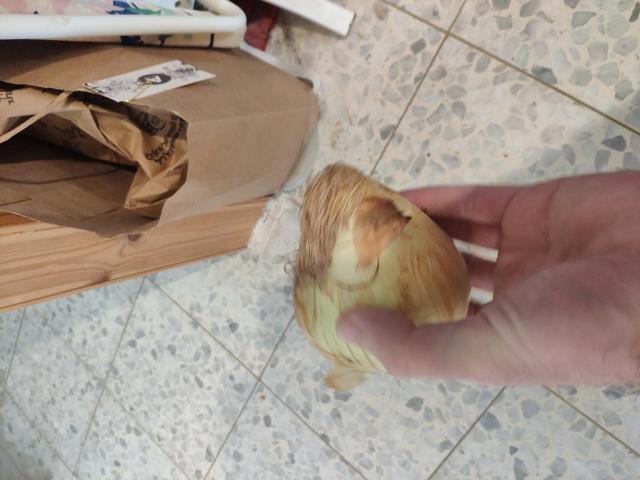onion: (262, 164, 488, 379)
